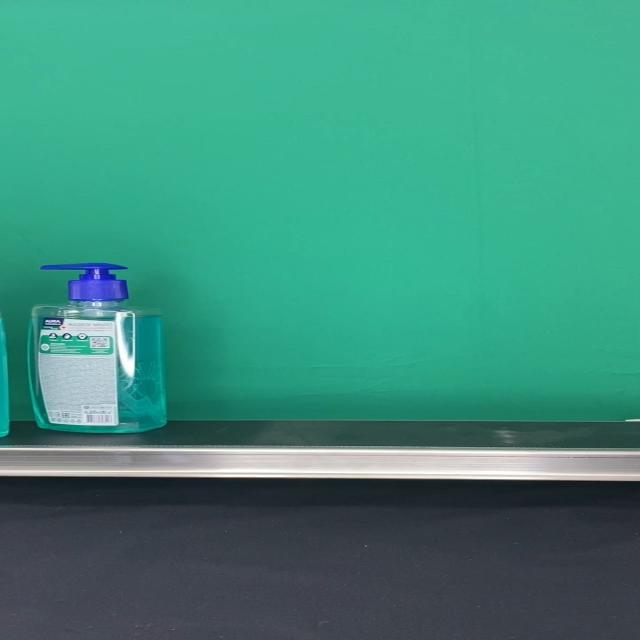Bottle: (27, 263, 168, 434)
Cap: (45, 263, 135, 301)
